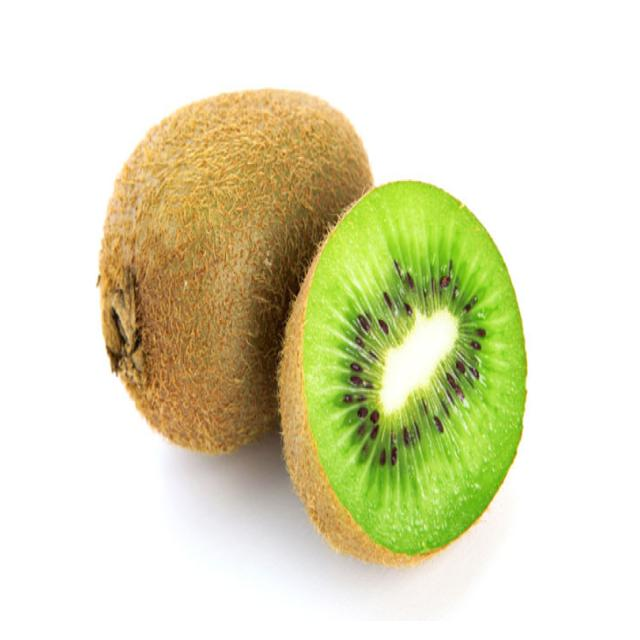Qiwi: (94, 90, 380, 451), (277, 168, 528, 560)
